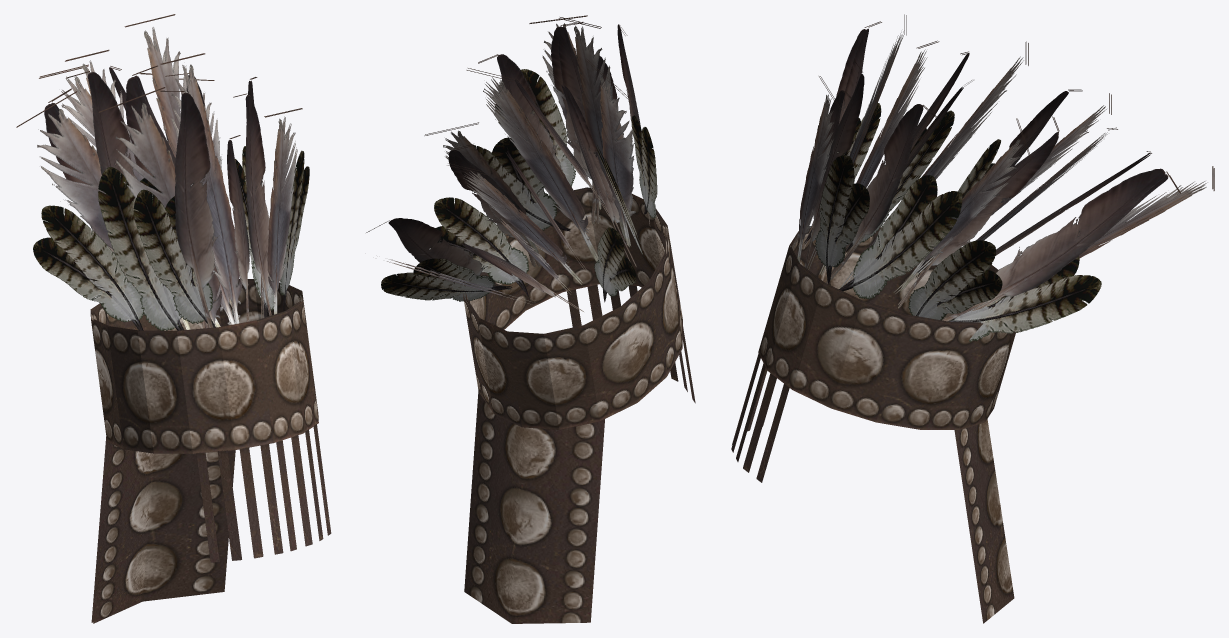
File: scyth_healer_01.dae
The picture shows the model from 3 angles, left to right: view 1: azimuth 30°, elevation 25°; view 2: azimuth 150°, elevation 25°; view 3: azimuth 270°, elevation 25°; orthographic projection. The views are drawn at different scales.
Parts seen in each view (by area): view 1: scyth_healer_feathers_01; view 2: scyth_healer_feathers_01; view 3: scyth_healer_feathers_01.
Part boxes in pixels (<box>): scyth_healer_feathers_01: <box>16,14,331,623</box>; scyth_healer_feathers_01: <box>366,15,695,623</box>; scyth_healer_feathers_01: <box>731,14,1214,623</box>.
Size of the model in its own units: 0.5817 by 1.07 by 1.38.
